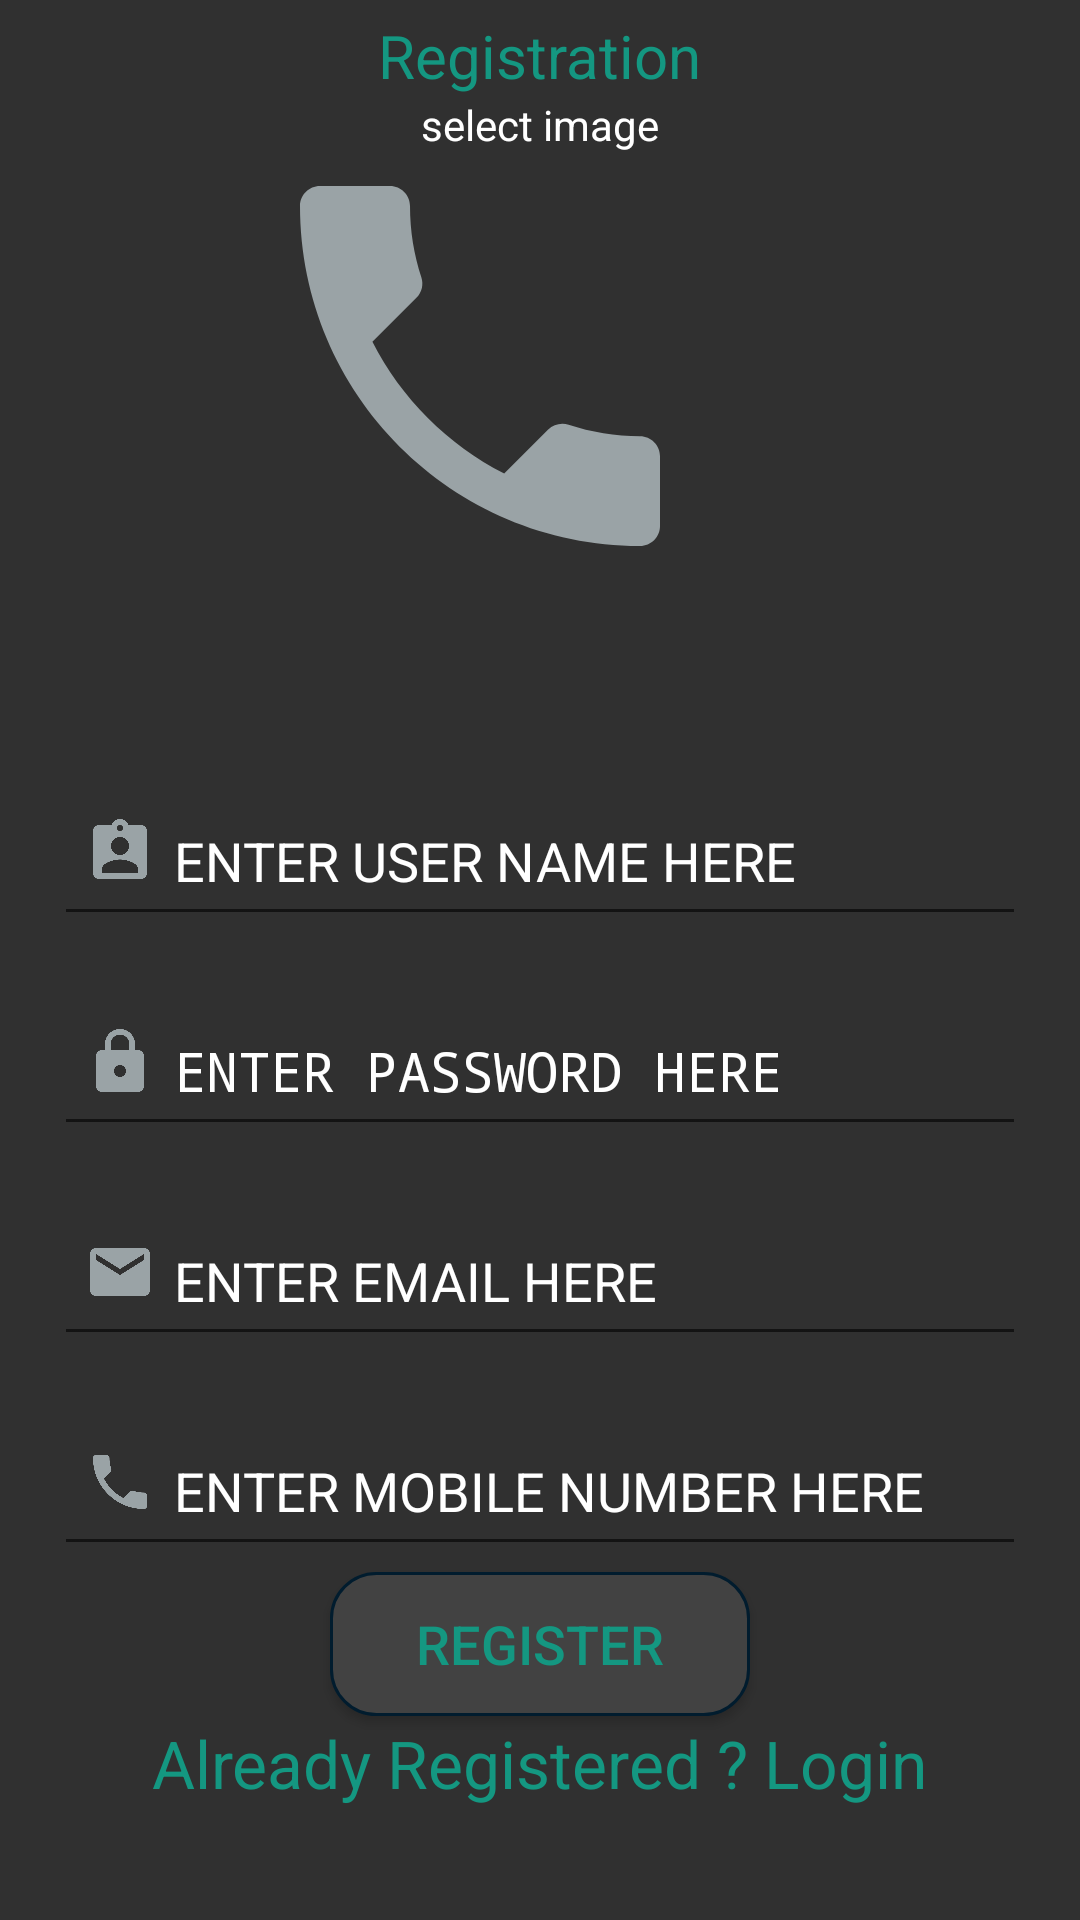

Screen size 1080px x 1920px. Icon name, then its center in pixels as point (x, y):
call: point (480, 366)
